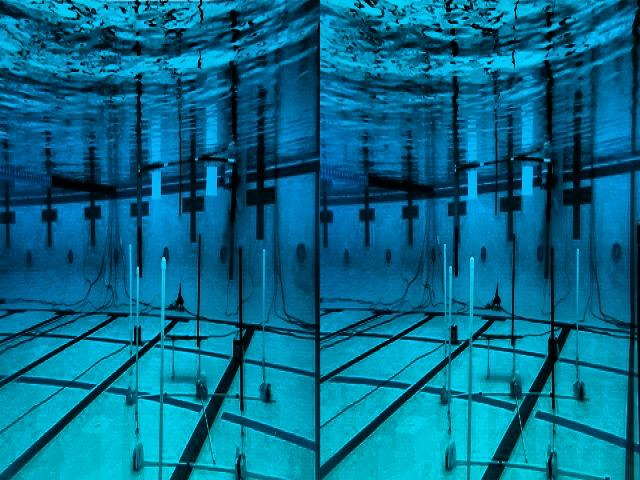gate: (453, 163, 554, 280), (136, 152, 239, 257)
path_marker: (164, 334, 208, 386), (482, 334, 523, 381)
